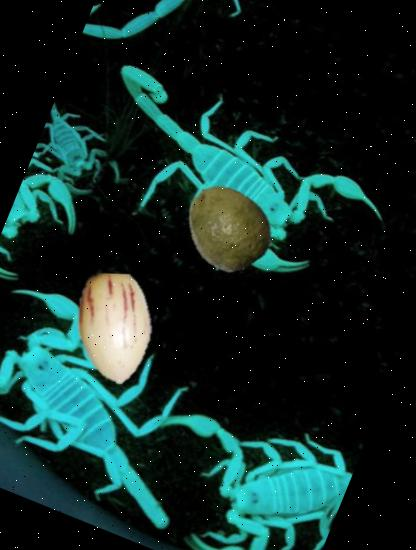Guava: (168, 167, 286, 285)
Pepino: (43, 257, 186, 400)
